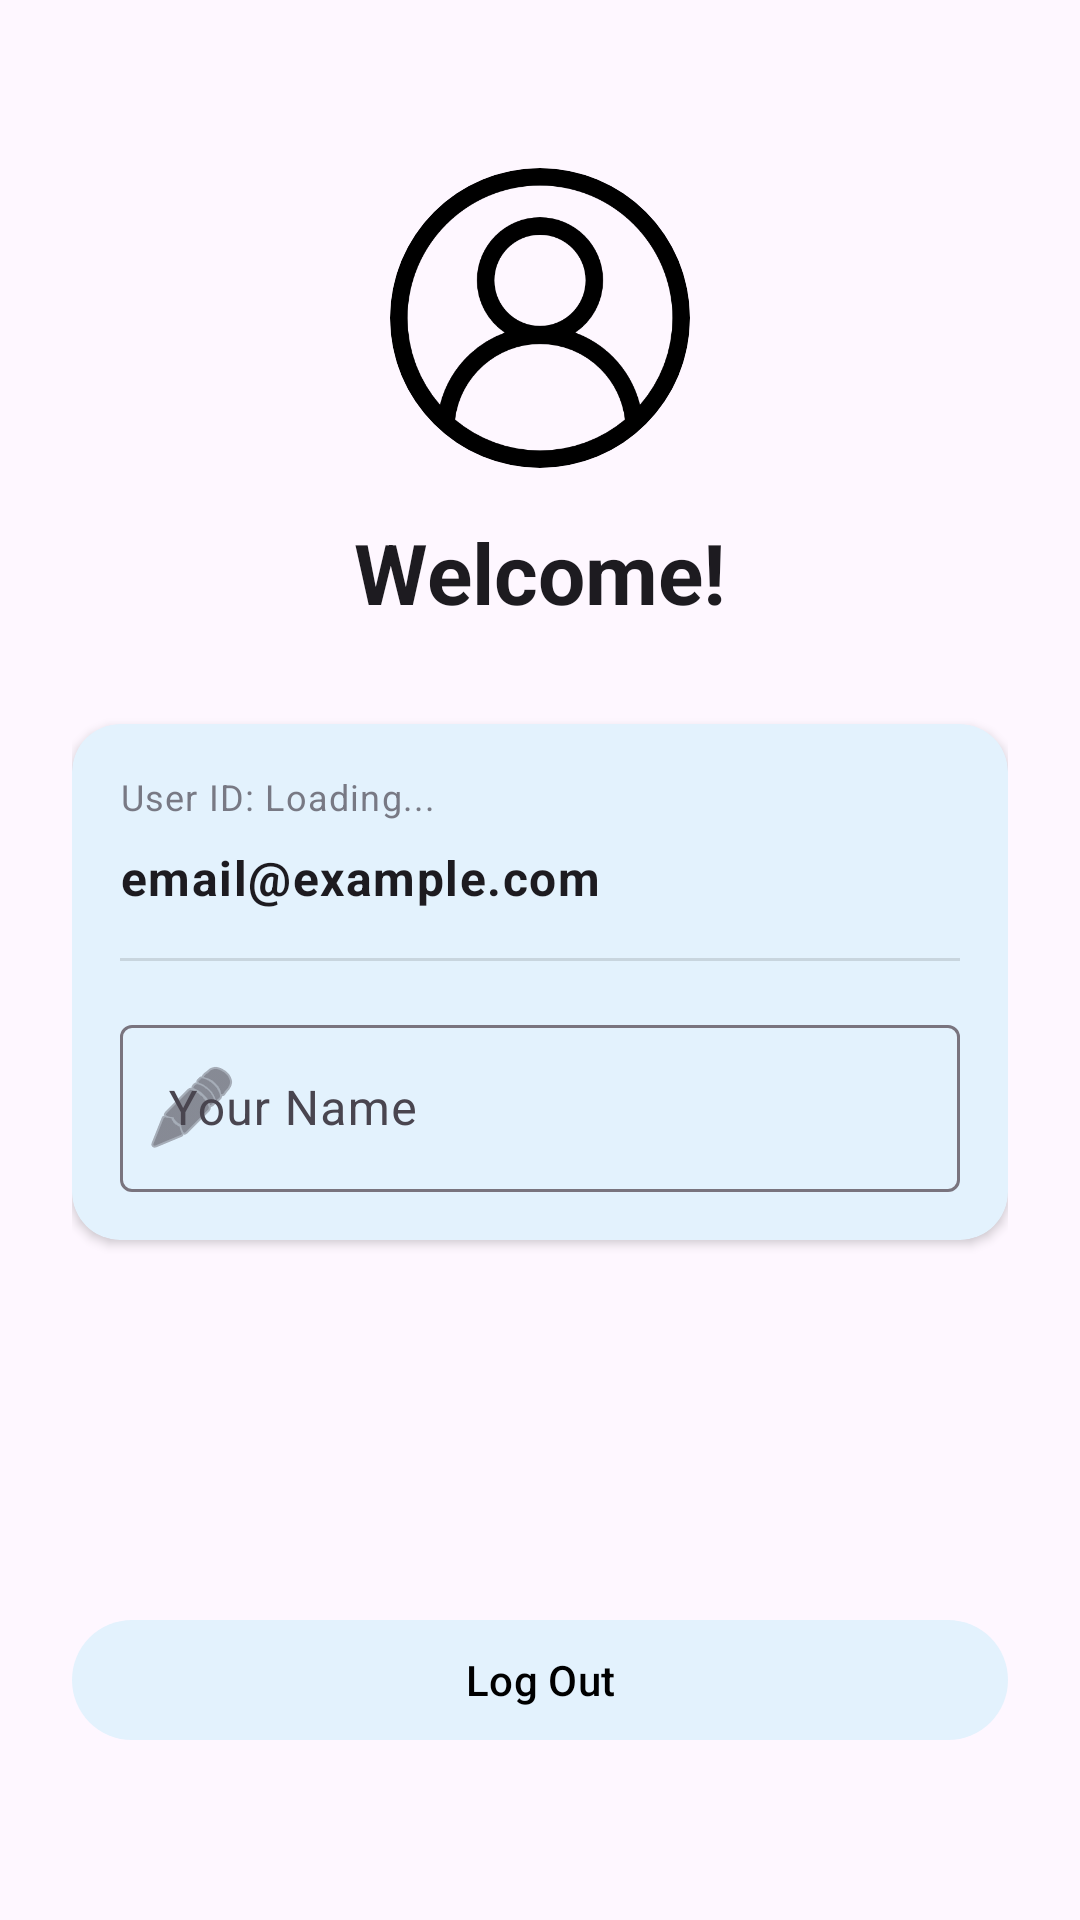

Icon click points for this 1080x1920 phone screenshot, format (x,y):
user: (540,318)
